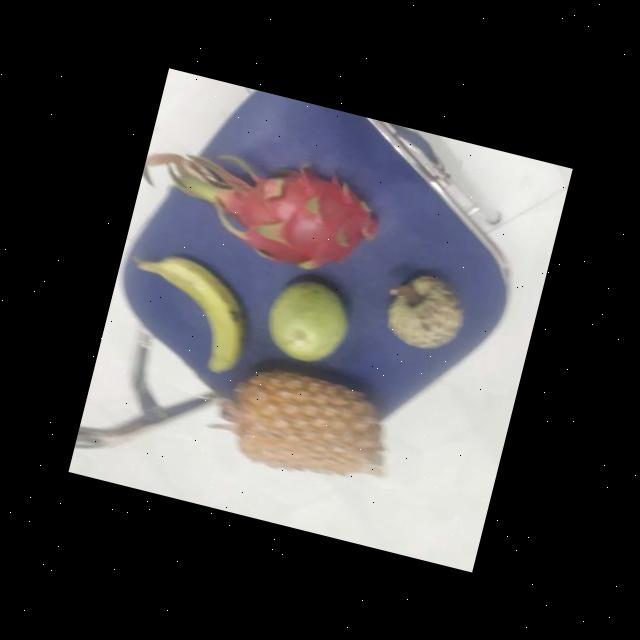Sakya fruit: (378, 267, 472, 356)
guava: (260, 270, 360, 370)
pitaya: (212, 148, 392, 284)
